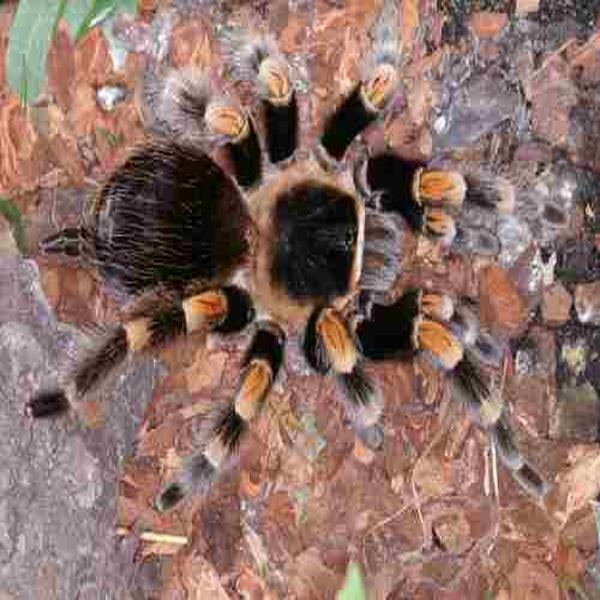Tarantula Spider: (51, 64, 531, 483)
